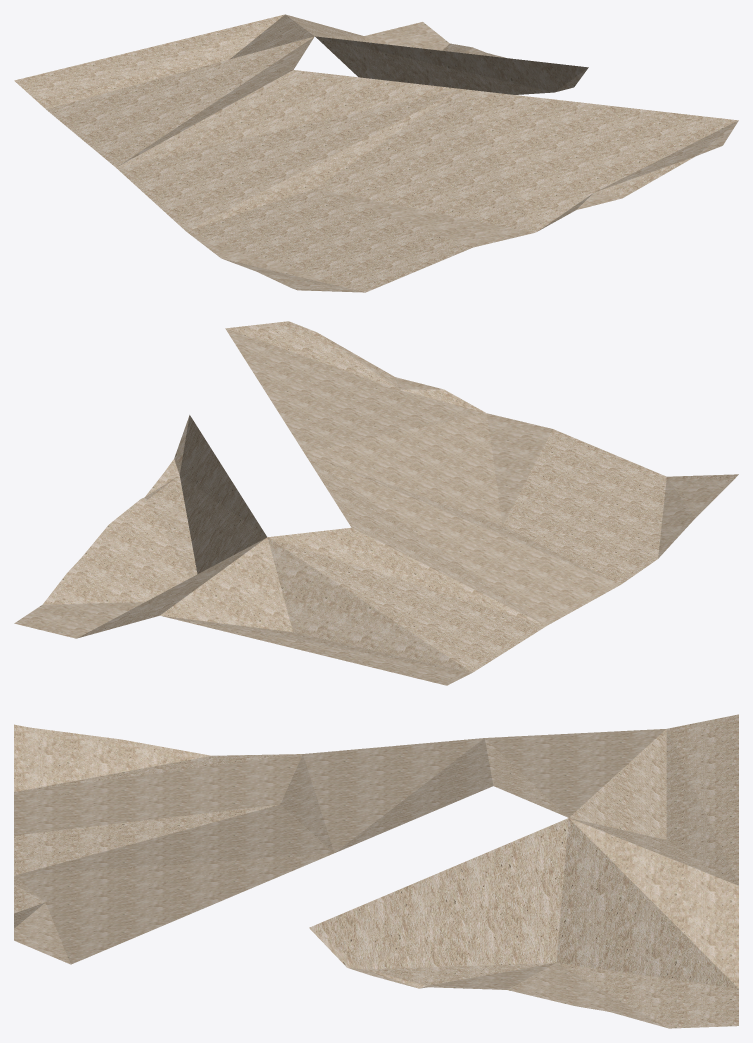
File: lodseabed112.obj
The picture shows the model from 3 angles, top to bottom: view 1: azimuth 30°, elevation 25°; view 2: azimuth 150°, elevation 25°; view 3: azimuth 270°, elevation 25°; orthographic projection. The views are drawn at different scales.
Parts seen in each view (by area): view 1: lodseabed112; view 2: lodseabed112; view 3: lodseabed112.
Part boxes in pixels (x1=…): lodseabed112: x1=14, y1=14, x2=738, y2=292; lodseabed112: x1=14, y1=321, x2=738, y2=685; lodseabed112: x1=14, y1=714, x2=738, y2=1028.
Bounding box in the file's own units: 380 × 61.72 × 394.
